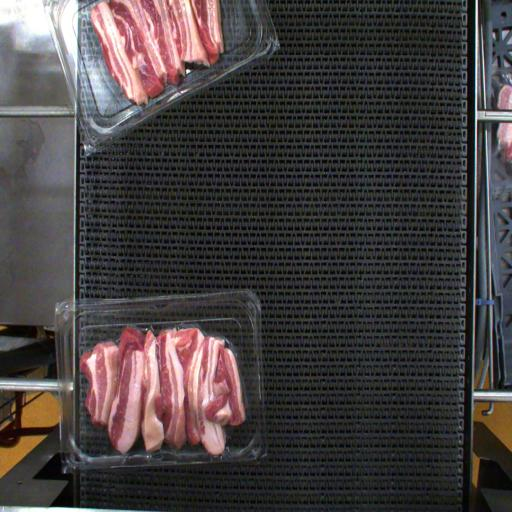unsealed: (64, 316, 237, 358)
